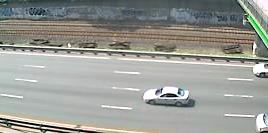car: (141, 84, 194, 109)
